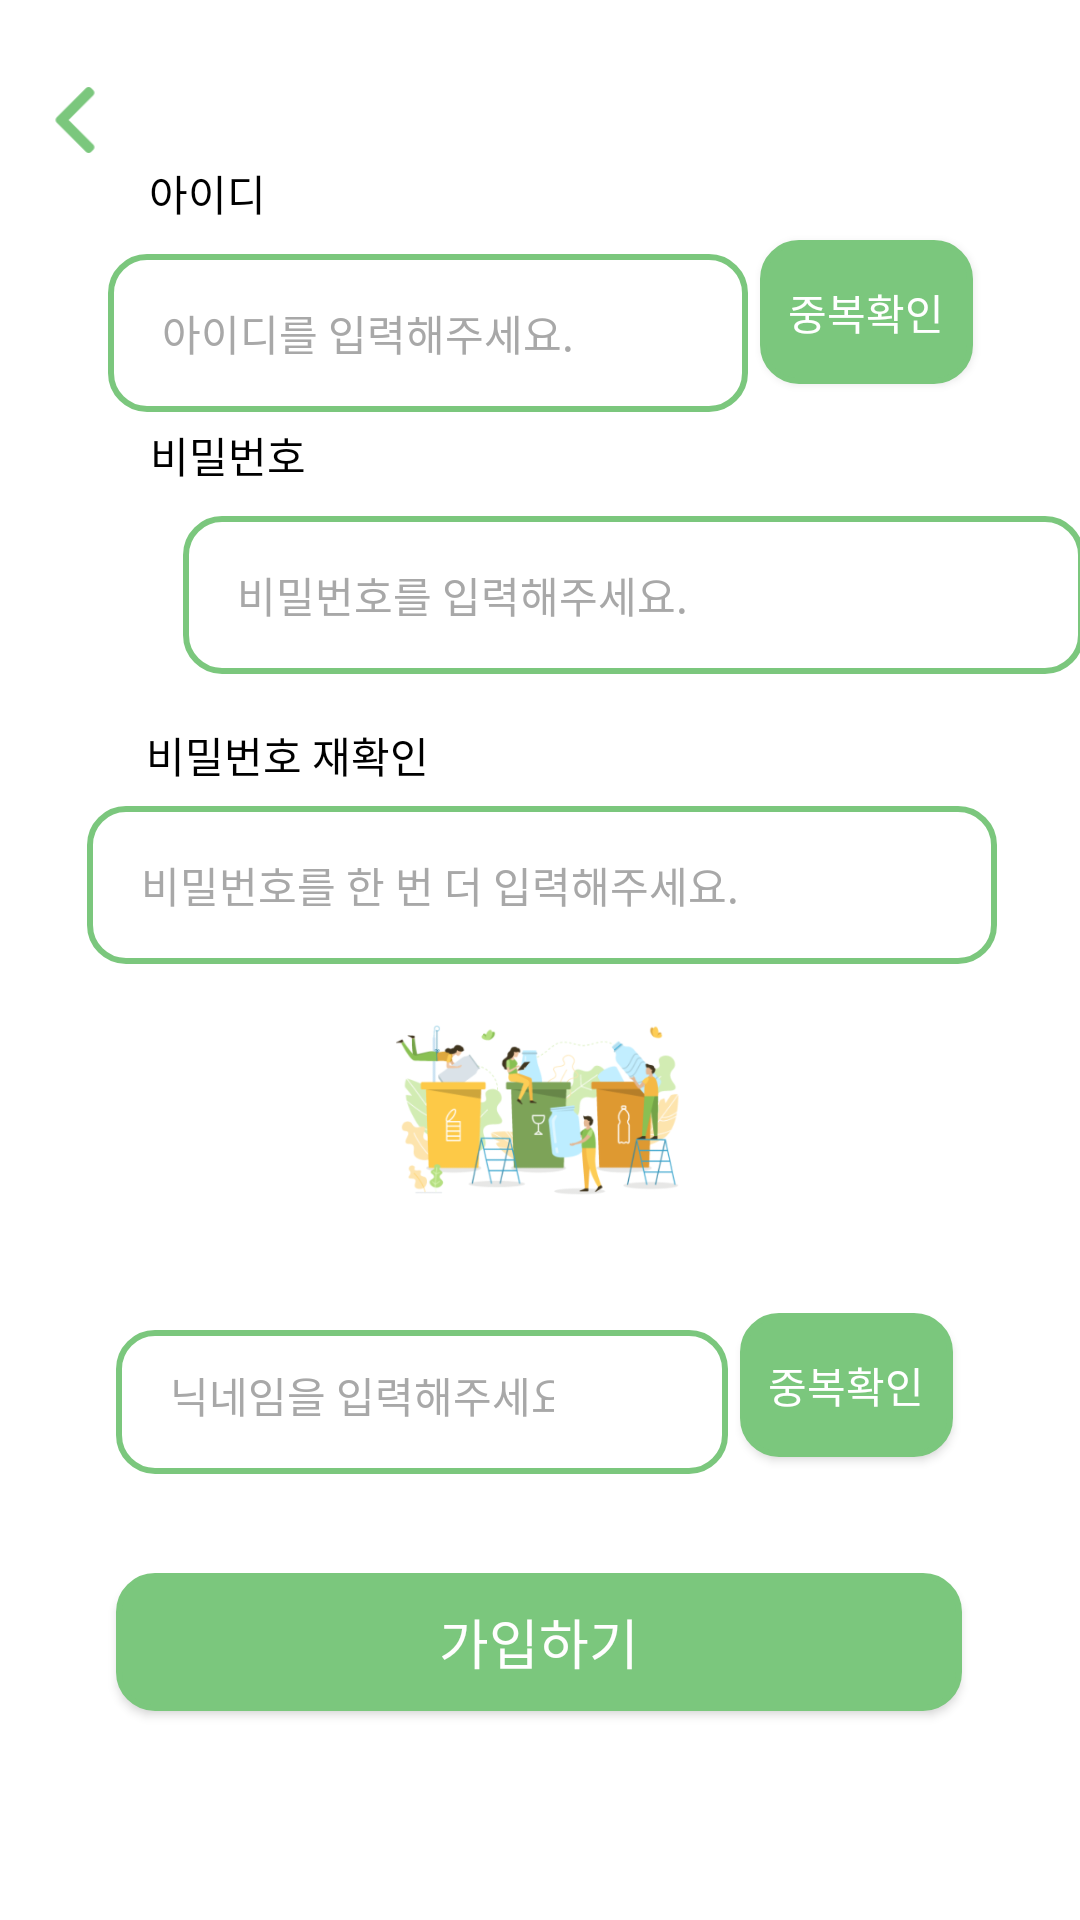

Icons on this 1080*1920 Android screen, each with its box as Rect(x1, y1, x2, y2):
arrow: Rect(55, 87, 95, 153)
waste: Rect(396, 1026, 679, 1193)
